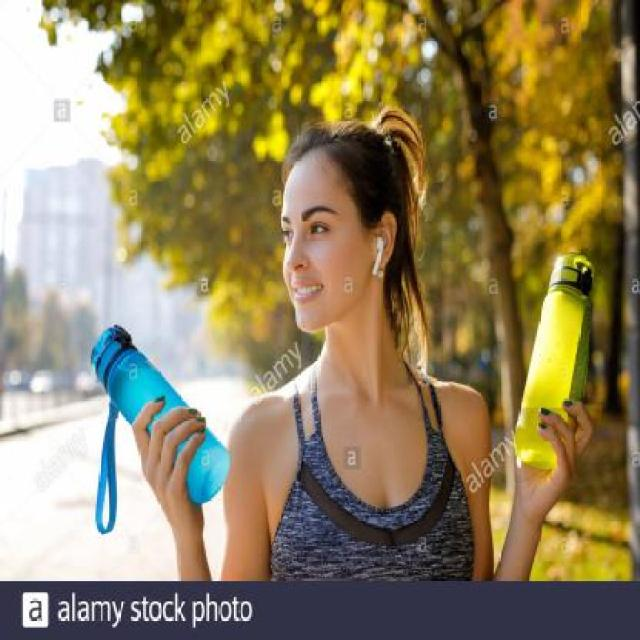Drinking: (86, 318, 239, 538), (504, 245, 599, 493)
